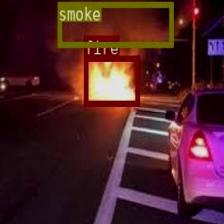fire: (83, 55, 138, 104)
smoke: (57, 1, 173, 47)
